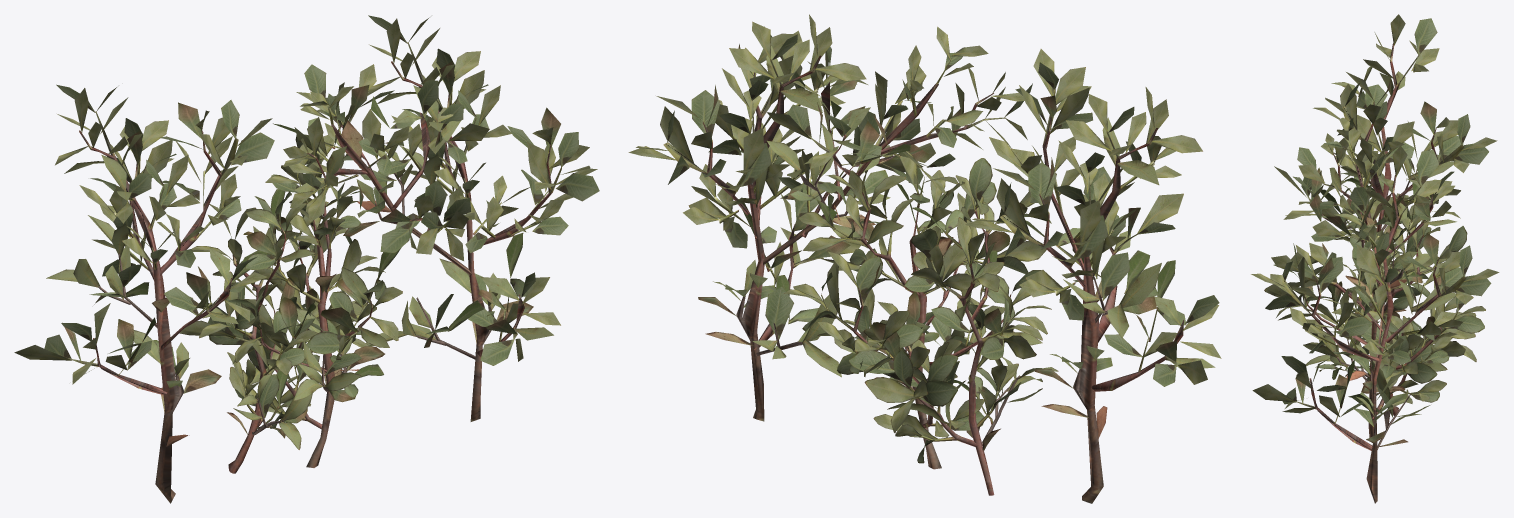
File: ph_shrub_04.glb
The picture shows the model from 3 angles, left to right: view 1: azimuth 30°, elevation 25°; view 2: azimuth 150°, elevation 25°; view 3: azimuth 270°, elevation 25°; orthographic projection. The views are drawn at different scales.
Visible parts, largest first — view 1: v0, v1, v2; view 2: v0, v1, v2; view 3: v0, v1, v2.
Part boxes in pixels (x1=…): v0: x1=14, y1=15, x2=599, y2=503; v1: x1=179, y1=134, x2=402, y2=467; v2: x1=191, y1=189, x2=368, y2=473; v0: x1=628, y1=14, x2=1221, y2=503; v1: x1=784, y1=147, x2=1047, y2=469; v2: x1=817, y1=158, x2=1058, y2=495; v0: x1=1251, y1=14, x2=1499, y2=503; v1: x1=1264, y1=195, x2=1485, y2=442; v2: x1=1306, y1=201, x2=1447, y2=415.
Size of the model in its own units: 0.2901 by 0.2212 by 0.1457.
Materials: 1 (1 with a texture image).
